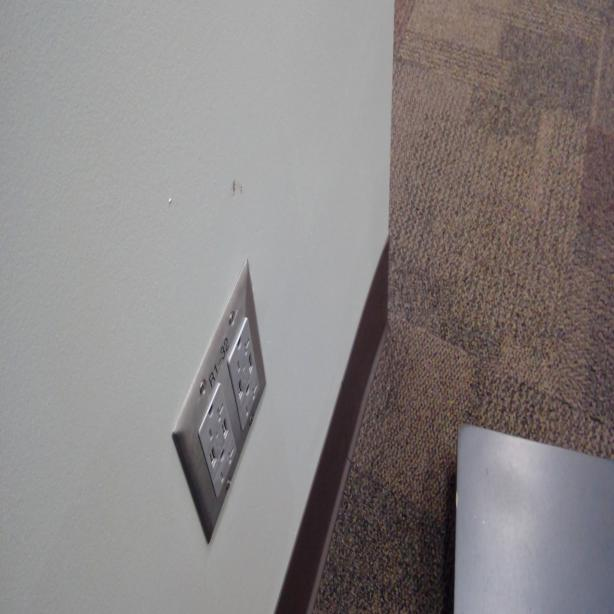typeb: (201, 397, 226, 443), (230, 329, 249, 377), (219, 444, 235, 491), (243, 384, 260, 425)
